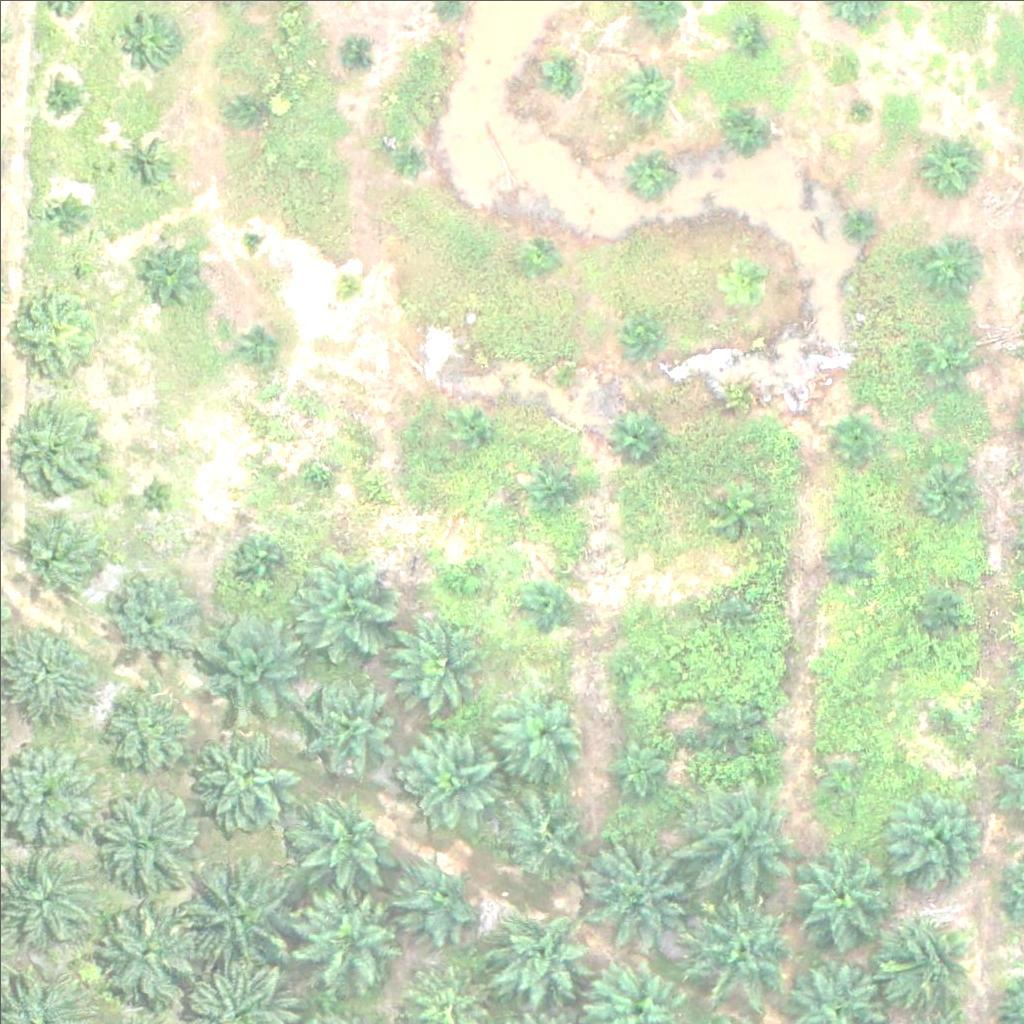Kelapa_Sawit: (580, 833, 693, 946), (180, 854, 293, 967), (189, 605, 302, 718), (682, 889, 794, 1002), (686, 781, 798, 894), (295, 793, 395, 894), (400, 724, 500, 825), (489, 906, 589, 1007), (496, 787, 596, 888), (790, 844, 890, 945), (879, 910, 979, 1011), (194, 726, 294, 827), (97, 778, 197, 879), (99, 899, 199, 1000), (8, 506, 108, 607), (6, 400, 106, 501), (1, 279, 101, 380), (295, 552, 395, 653), (299, 884, 399, 984), (887, 791, 987, 891), (392, 613, 492, 713), (392, 852, 480, 940), (305, 682, 393, 770), (2, 848, 90, 936), (495, 684, 582, 773), (106, 573, 193, 662), (107, 681, 194, 769), (911, 231, 986, 307), (143, 236, 206, 299), (910, 462, 973, 525), (918, 133, 981, 195), (604, 742, 666, 805), (712, 485, 762, 536), (615, 405, 665, 456), (720, 248, 770, 299), (625, 147, 675, 198), (237, 534, 287, 585), (919, 583, 969, 634), (126, 18, 176, 69), (819, 539, 869, 590), (707, 376, 757, 427), (920, 326, 970, 376), (727, 109, 777, 159), (620, 64, 670, 114), (816, 756, 866, 806), (920, 691, 970, 741), (705, 697, 755, 747), (531, 461, 581, 511), (518, 584, 568, 634), (232, 89, 270, 127), (838, 208, 876, 246), (440, 561, 478, 599), (449, 410, 487, 448), (297, 454, 335, 492), (135, 473, 173, 511), (329, 264, 367, 302), (727, 19, 765, 57), (38, 195, 76, 233), (834, 422, 872, 459), (540, 52, 577, 90), (45, 78, 82, 116), (127, 145, 164, 183), (332, 35, 370, 72), (712, 594, 749, 632), (607, 649, 644, 687), (246, 325, 283, 363), (549, 364, 586, 402), (838, 94, 875, 132), (623, 315, 660, 352), (518, 242, 555, 279), (387, 144, 424, 181), (239, 228, 264, 253)
